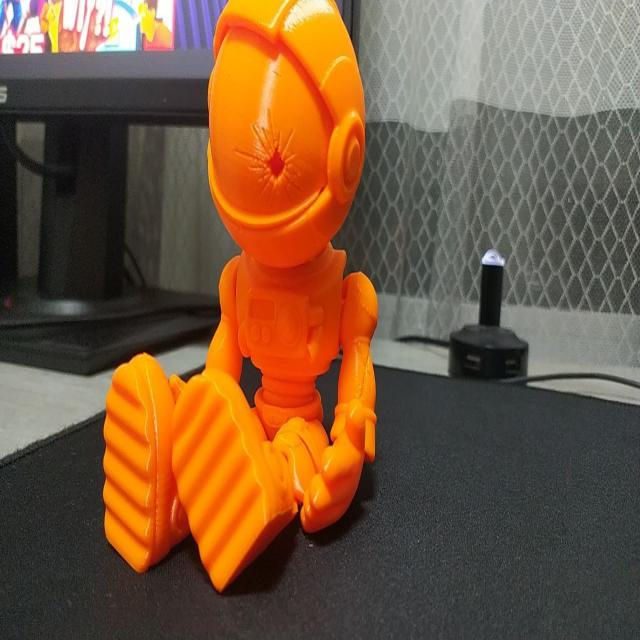Without deffect: (75, 0, 398, 595)
